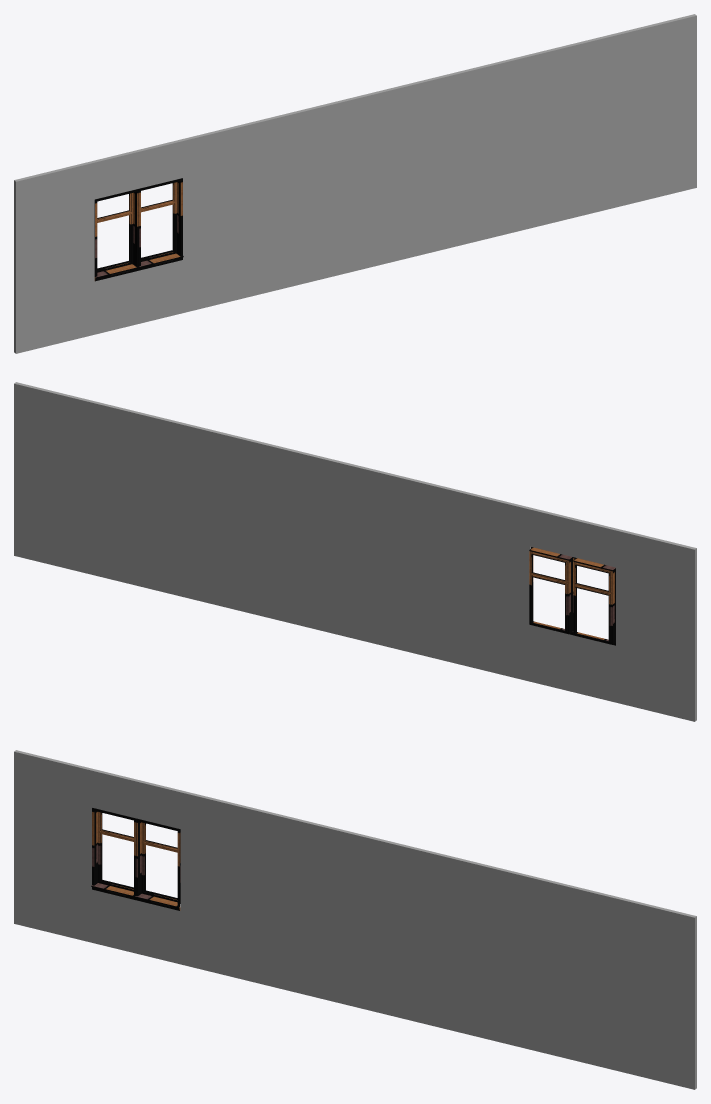
Rendered from wall.fbx.
3 renders of one model, top to bottom at view 1: azimuth 30°, elevation 25°; view 2: azimuth 150°, elevation 25°; view 3: azimuth 330°, elevation 25°, orthographic.
Visible parts, largest first — view 1: pCube4, Body.Courtyard_Template002_Window_reference.smd.mesh_0, window:Body.Courtyard_Template002_Window_reference.smd.mesh_; view 2: pCube4, window:Body.Courtyard_Template002_Window_reference.smd.mesh_, Body.Courtyard_Template002_Window_reference.smd.mesh_0; view 3: pCube4, window:Body.Courtyard_Template002_Window_reference.smd.mesh_, Body.Courtyard_Template002_Window_reference.smd.mesh_0.
Part boxes in pixels (x1,y1,x2,y2): pCube4: (14, 14, 696, 353); Body.Courtyard_Template002_Window_reference.smd.mesh_0: (94, 189, 139, 281); window:Body.Courtyard_Template002_Window_reference.smd.mesh_: (138, 178, 183, 270); pCube4: (14, 382, 696, 721); window:Body.Courtyard_Template002_Window_reference.smd.mesh_: (529, 547, 575, 634); Body.Courtyard_Template002_Window_reference.smd.mesh_0: (573, 557, 615, 645); pCube4: (14, 750, 696, 1089); window:Body.Courtyard_Template002_Window_reference.smd.mesh_: (135, 818, 180, 910); Body.Courtyard_Template002_Window_reference.smd.mesh_0: (91, 808, 136, 899).
Size of the model in its own units: 1312 by 317 by 19.14.
